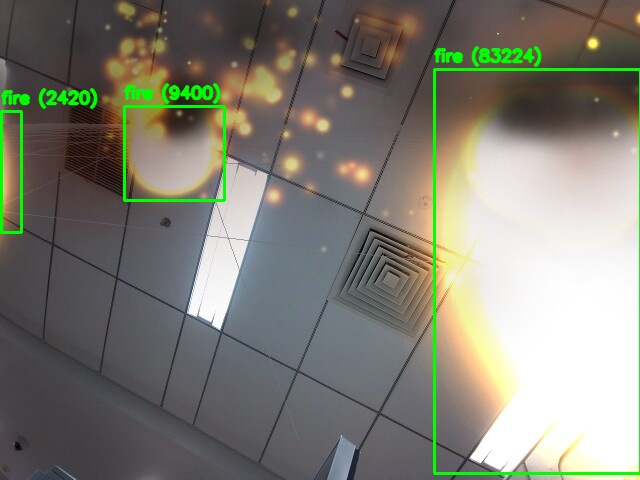fire: (434, 69, 640, 473), (124, 106, 224, 200), (1, 111, 21, 232)
